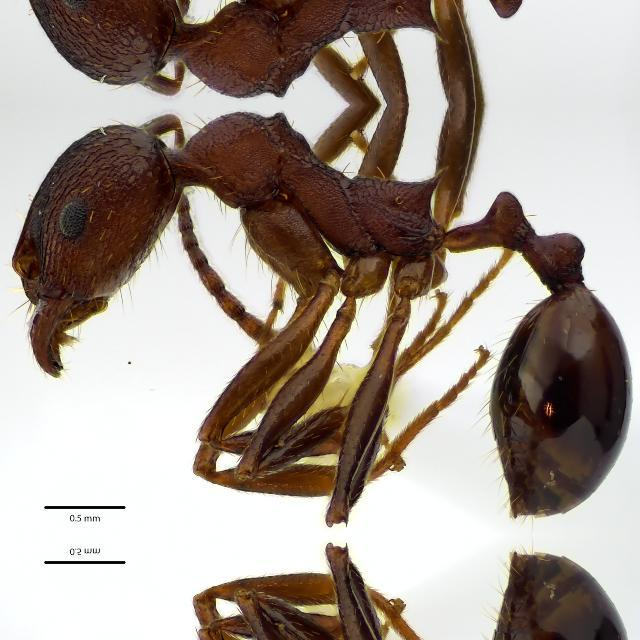Apheanogaster: (36, 114, 640, 534), (36, 534, 640, 640), (36, 0, 640, 92)
